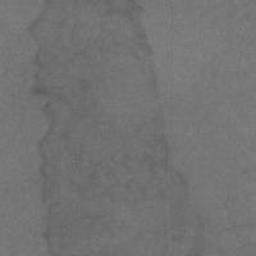Water spot: (23, 0, 209, 256)
